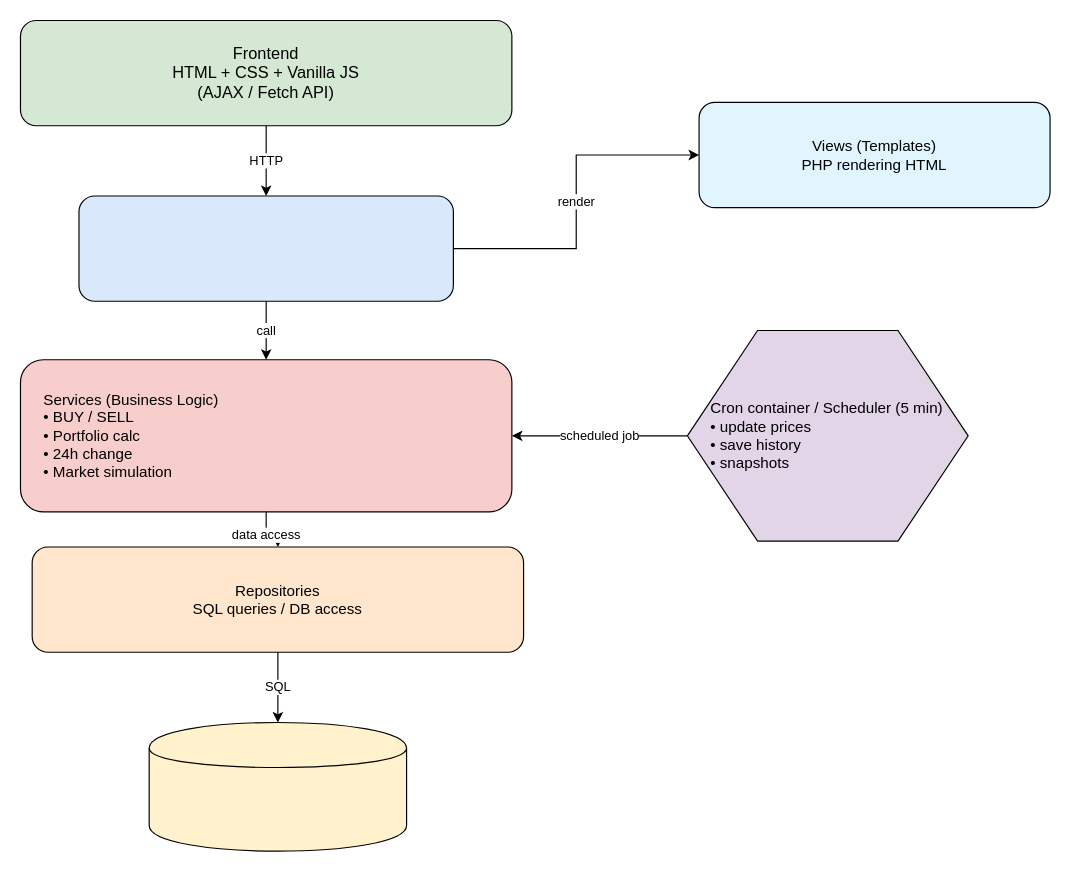
The diagram is 1071 pixels wide and 872 high, and some of its shapes have lost their labels. Each missing label, with the centre of its shape:
"Controllers (PHP MVC) Routing • Auth • Validation" goes at (x=265, y=248).
"PostgreSQL" goes at (x=277, y=786).
